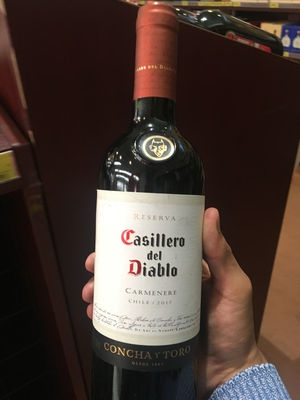casillero del diablo carmenere: (90, 5, 222, 392)
